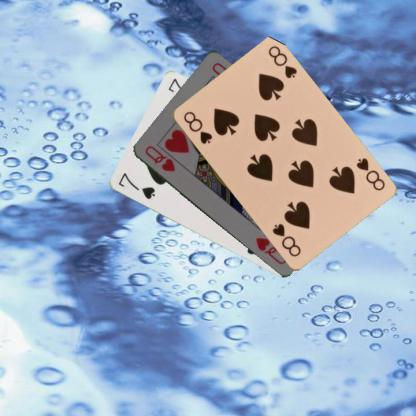7s: (115, 170, 156, 200)
8s: (180, 108, 213, 146), (353, 155, 386, 192)
Qh: (142, 143, 178, 173)
